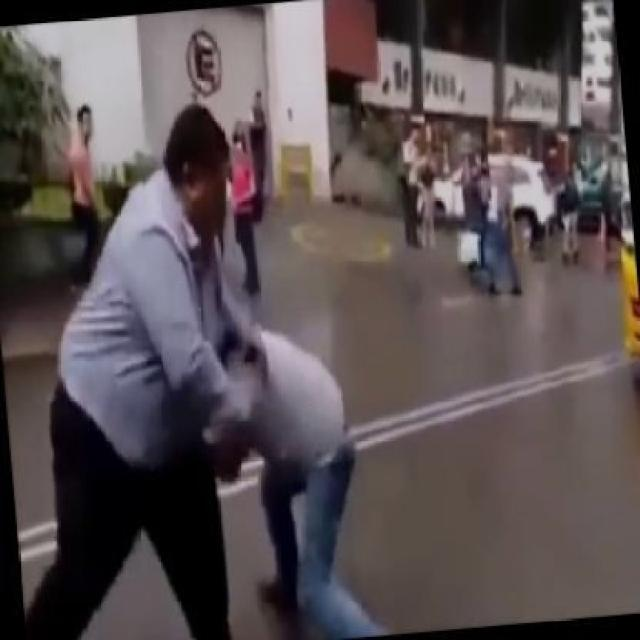fight: (21, 101, 398, 640)
non-fight: (62, 101, 109, 294), (225, 116, 262, 292)
